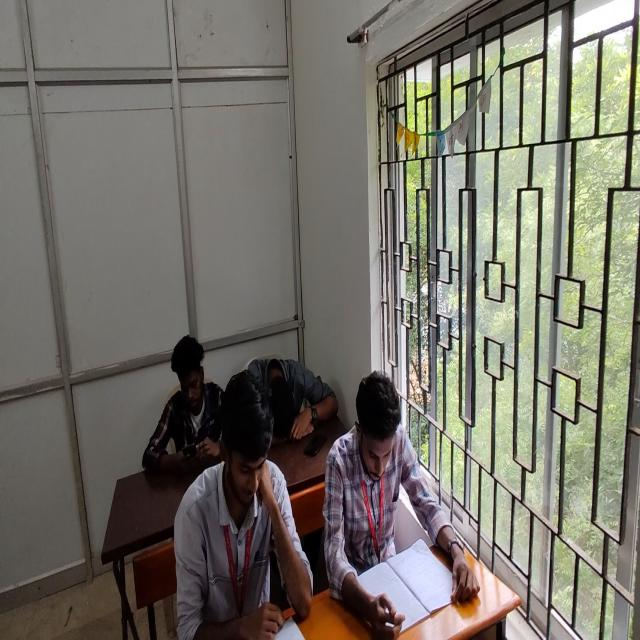reading: (172, 368, 313, 640), (342, 370, 465, 629)
sleeping: (245, 356, 335, 444)
using_mobile: (142, 333, 224, 474)
